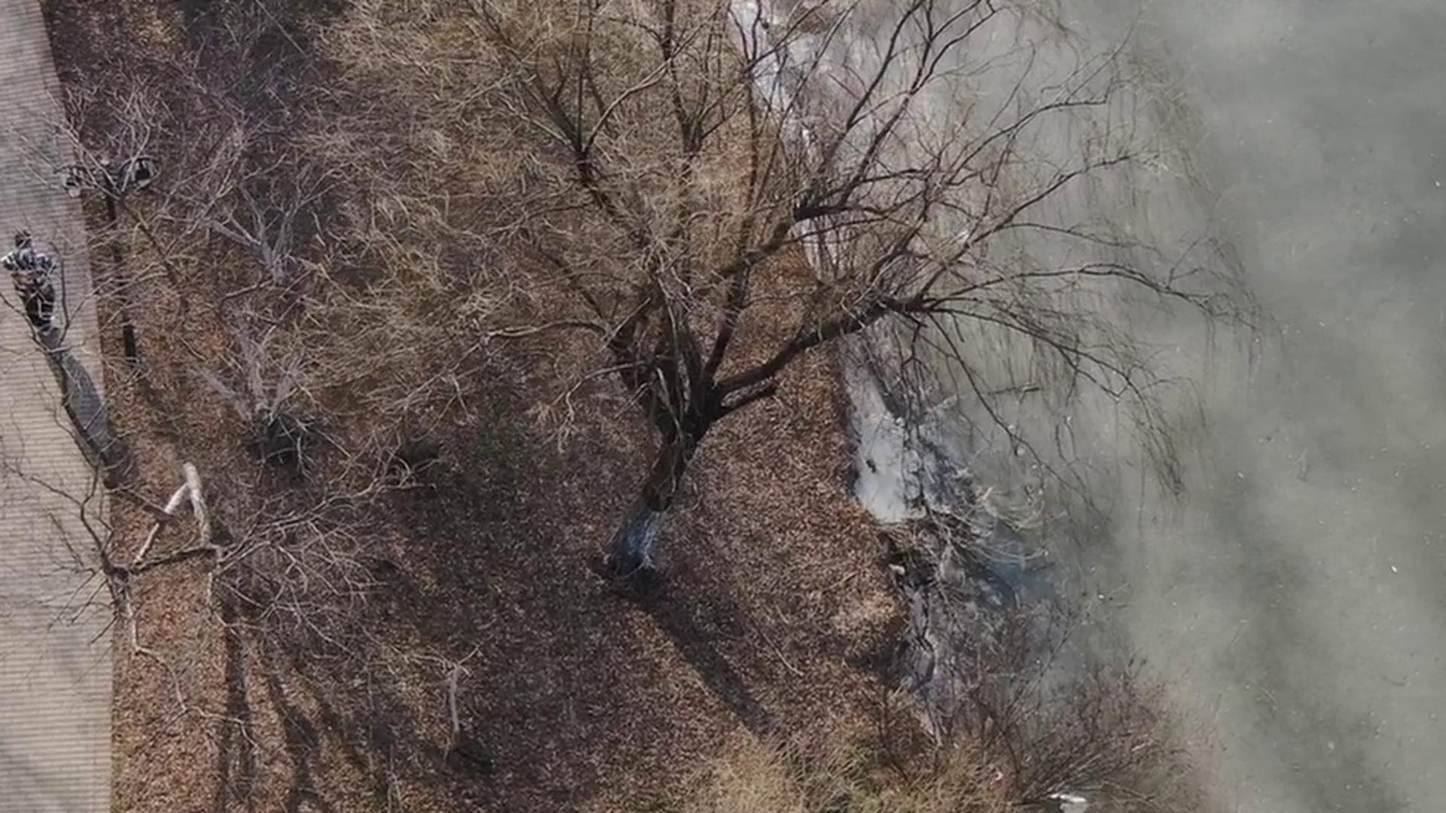human: (8, 234, 60, 334)
